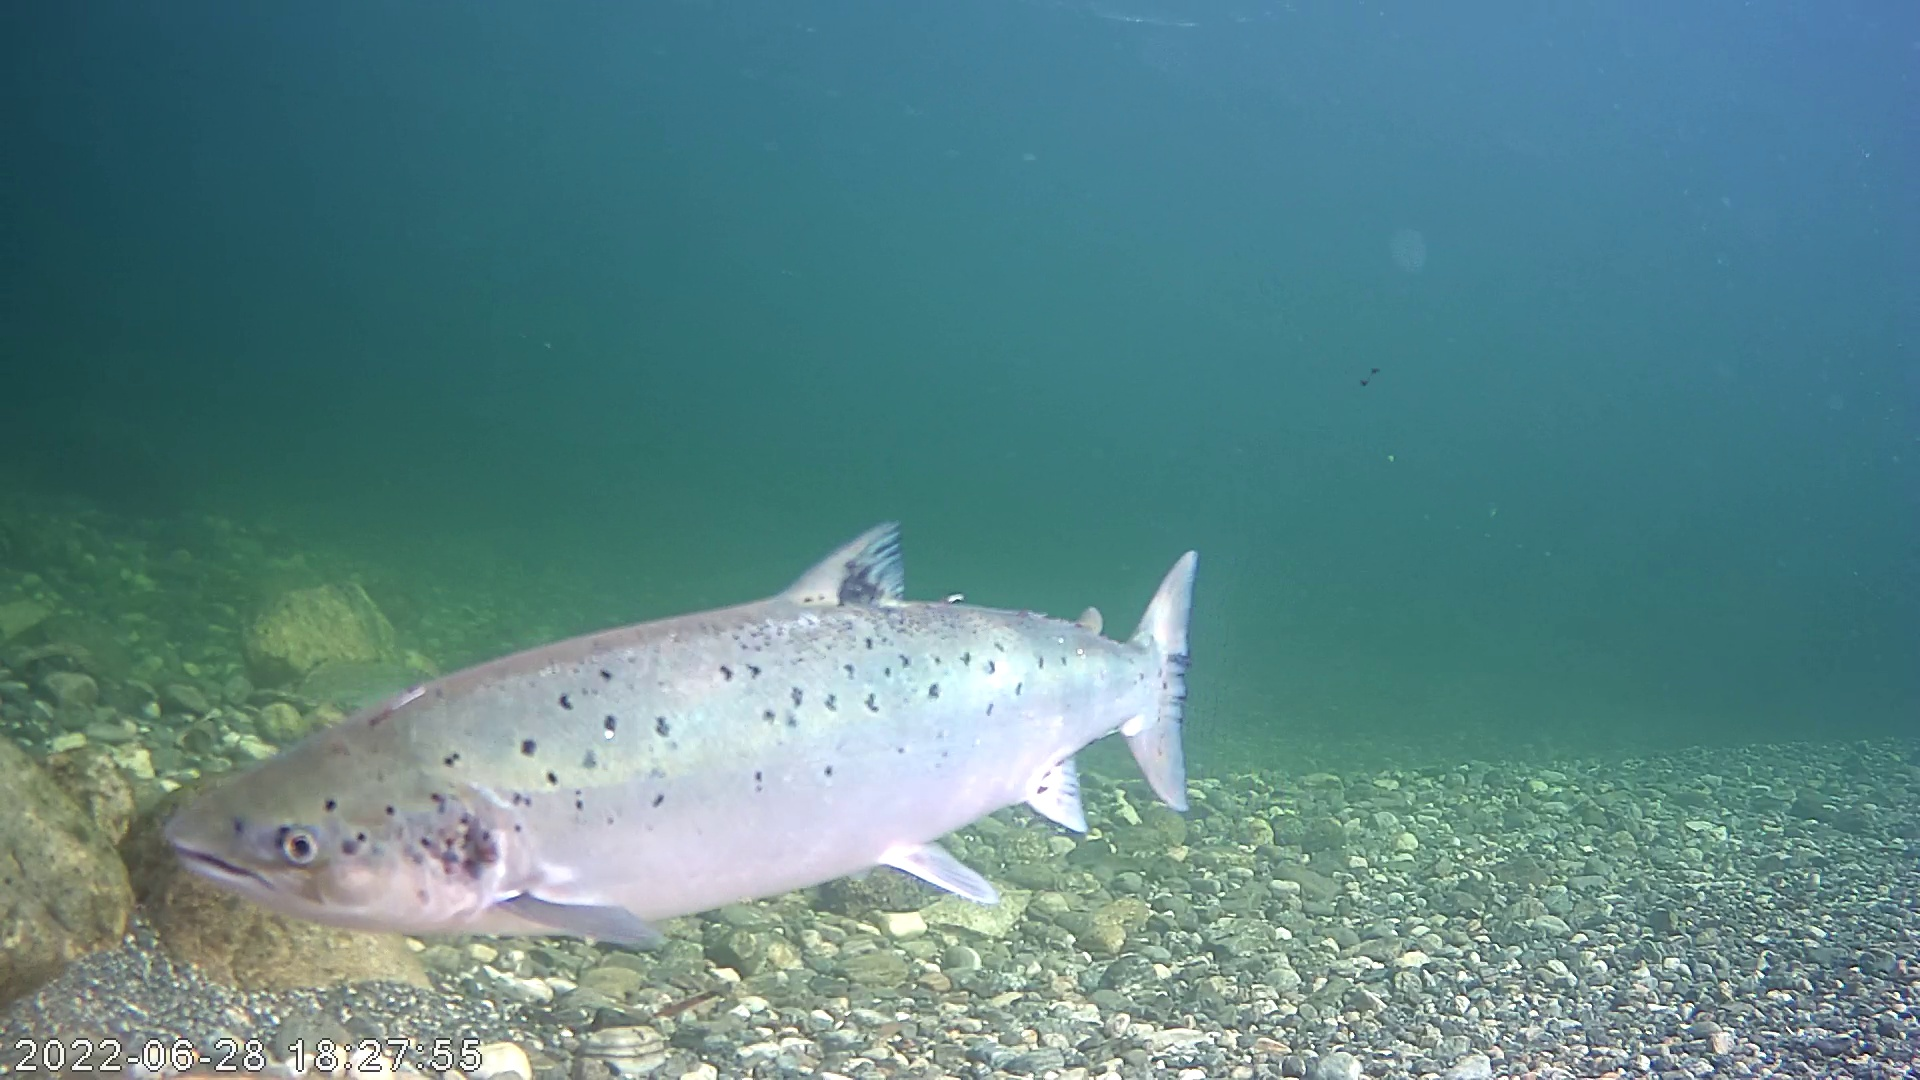salmon: (204, 463, 1225, 931)
